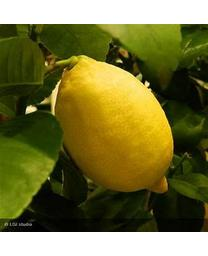lemon: (57, 57, 174, 193)
